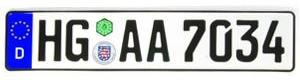0: (208, 18, 234, 63)
3: (235, 19, 260, 63)
4: (262, 19, 286, 64)
7: (181, 17, 208, 63)
A: (117, 17, 144, 63), (146, 17, 172, 63)
G: (64, 17, 91, 63)
H: (37, 18, 63, 62)
